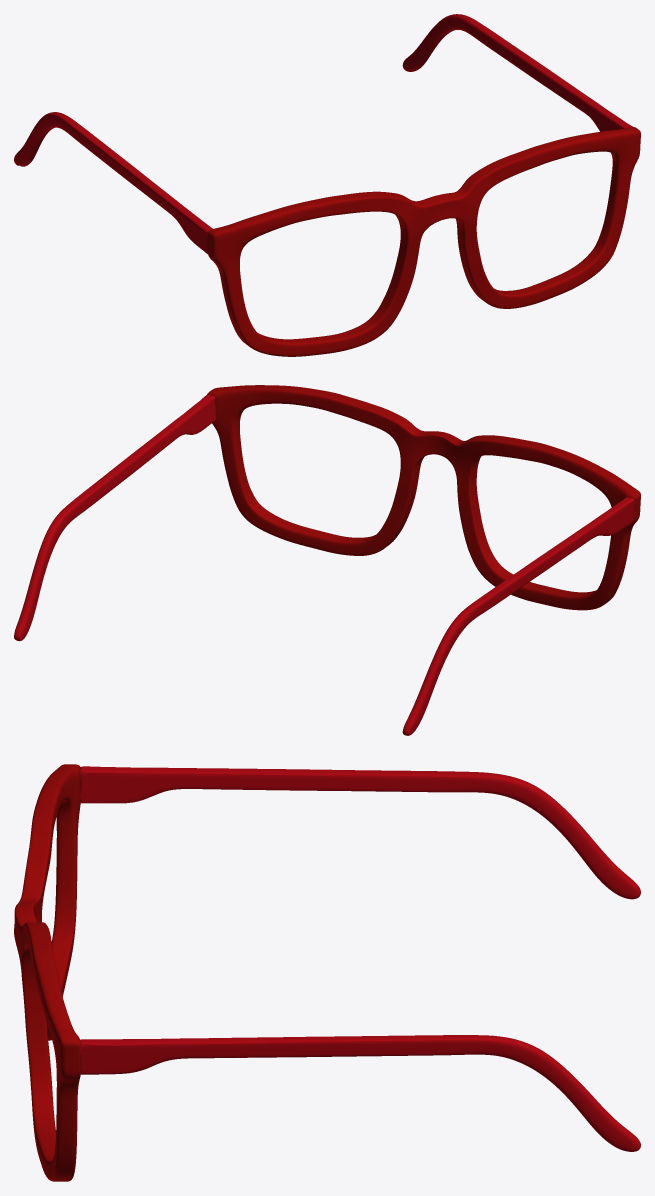
The model's file is Red Glass2.gltf.
The picture shows the model from 3 angles, top to bottom: view 1: azimuth 30°, elevation 25°; view 2: azimuth 150°, elevation 25°; view 3: azimuth 270°, elevation 25°; orthographic projection. The views are drawn at different scales.
Visible parts, largest first — view 1: Frame_1_5.001, Handles_2_7; view 2: Frame_1_5.001, Handles_2_7; view 3: Handles_2_7, Frame_1_5.001.
Boxes of the visible parts, x1=… form: Frame_1_5.001: x1=207, y1=127, x2=640, y2=356; Handles_2_7: x1=14, y1=14, x2=632, y2=254; Frame_1_5.001: x1=207, y1=385, x2=640, y2=610; Handles_2_7: x1=14, y1=394, x2=634, y2=735; Handles_2_7: x1=80, y1=766, x2=640, y2=1151; Frame_1_5.001: x1=14, y1=764, x2=80, y2=1181.
Size of what is drawn, in the model's own units: 2.02 by 0.693 by 1.92.
